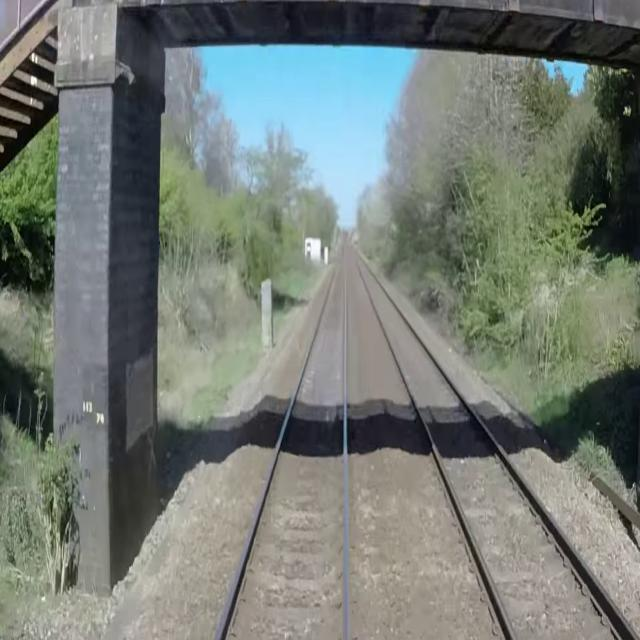rail-track: (353, 250, 633, 639), (220, 245, 344, 639)
